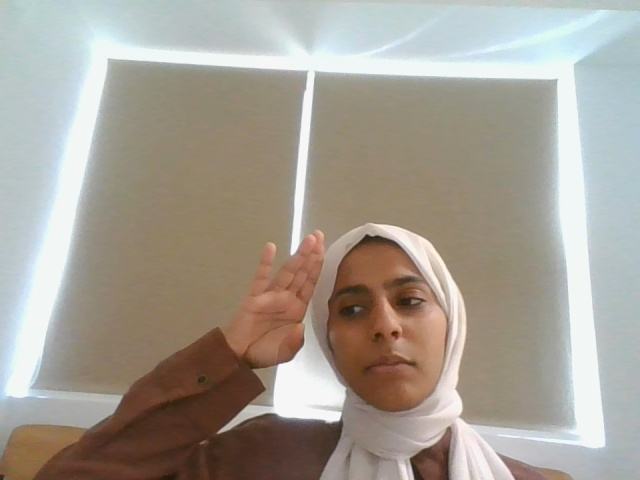hello: (241, 223, 319, 366)
